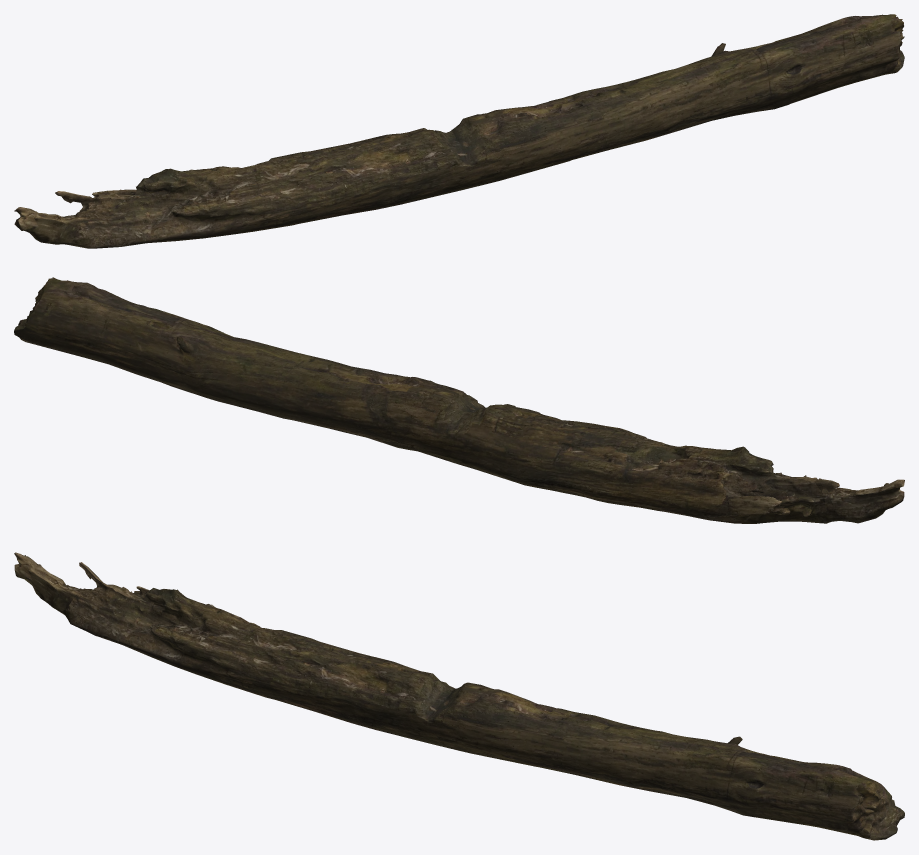
File: dead_trunk.glb
3 renders of one model, top to bottom at view 1: azimuth 30°, elevation 25°; view 2: azimuth 150°, elevation 25°; view 3: azimuth 330°, elevation 25°, orthographic.
Parts seen in each view (by area): view 1: dead_tree_trunk; view 2: dead_tree_trunk; view 3: dead_tree_trunk.
Boxes of the visible parts, x1,y1,x2,y2 form: dead_tree_trunk: [14, 14, 904, 248]; dead_tree_trunk: [14, 277, 904, 523]; dead_tree_trunk: [14, 552, 904, 840].
Bounding box in the file's own units: 3.05 × 0.29 × 0.2775.
Materials: 1 (1 with a texture image).
